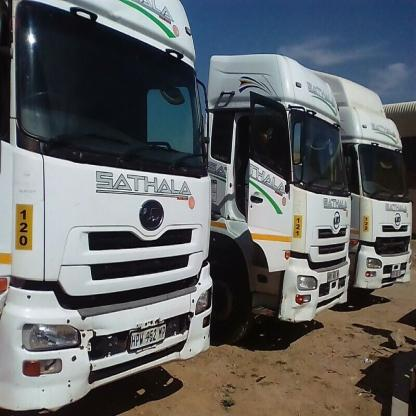dump_truck: (4, 2, 219, 414), (213, 38, 348, 340), (348, 74, 416, 299)
